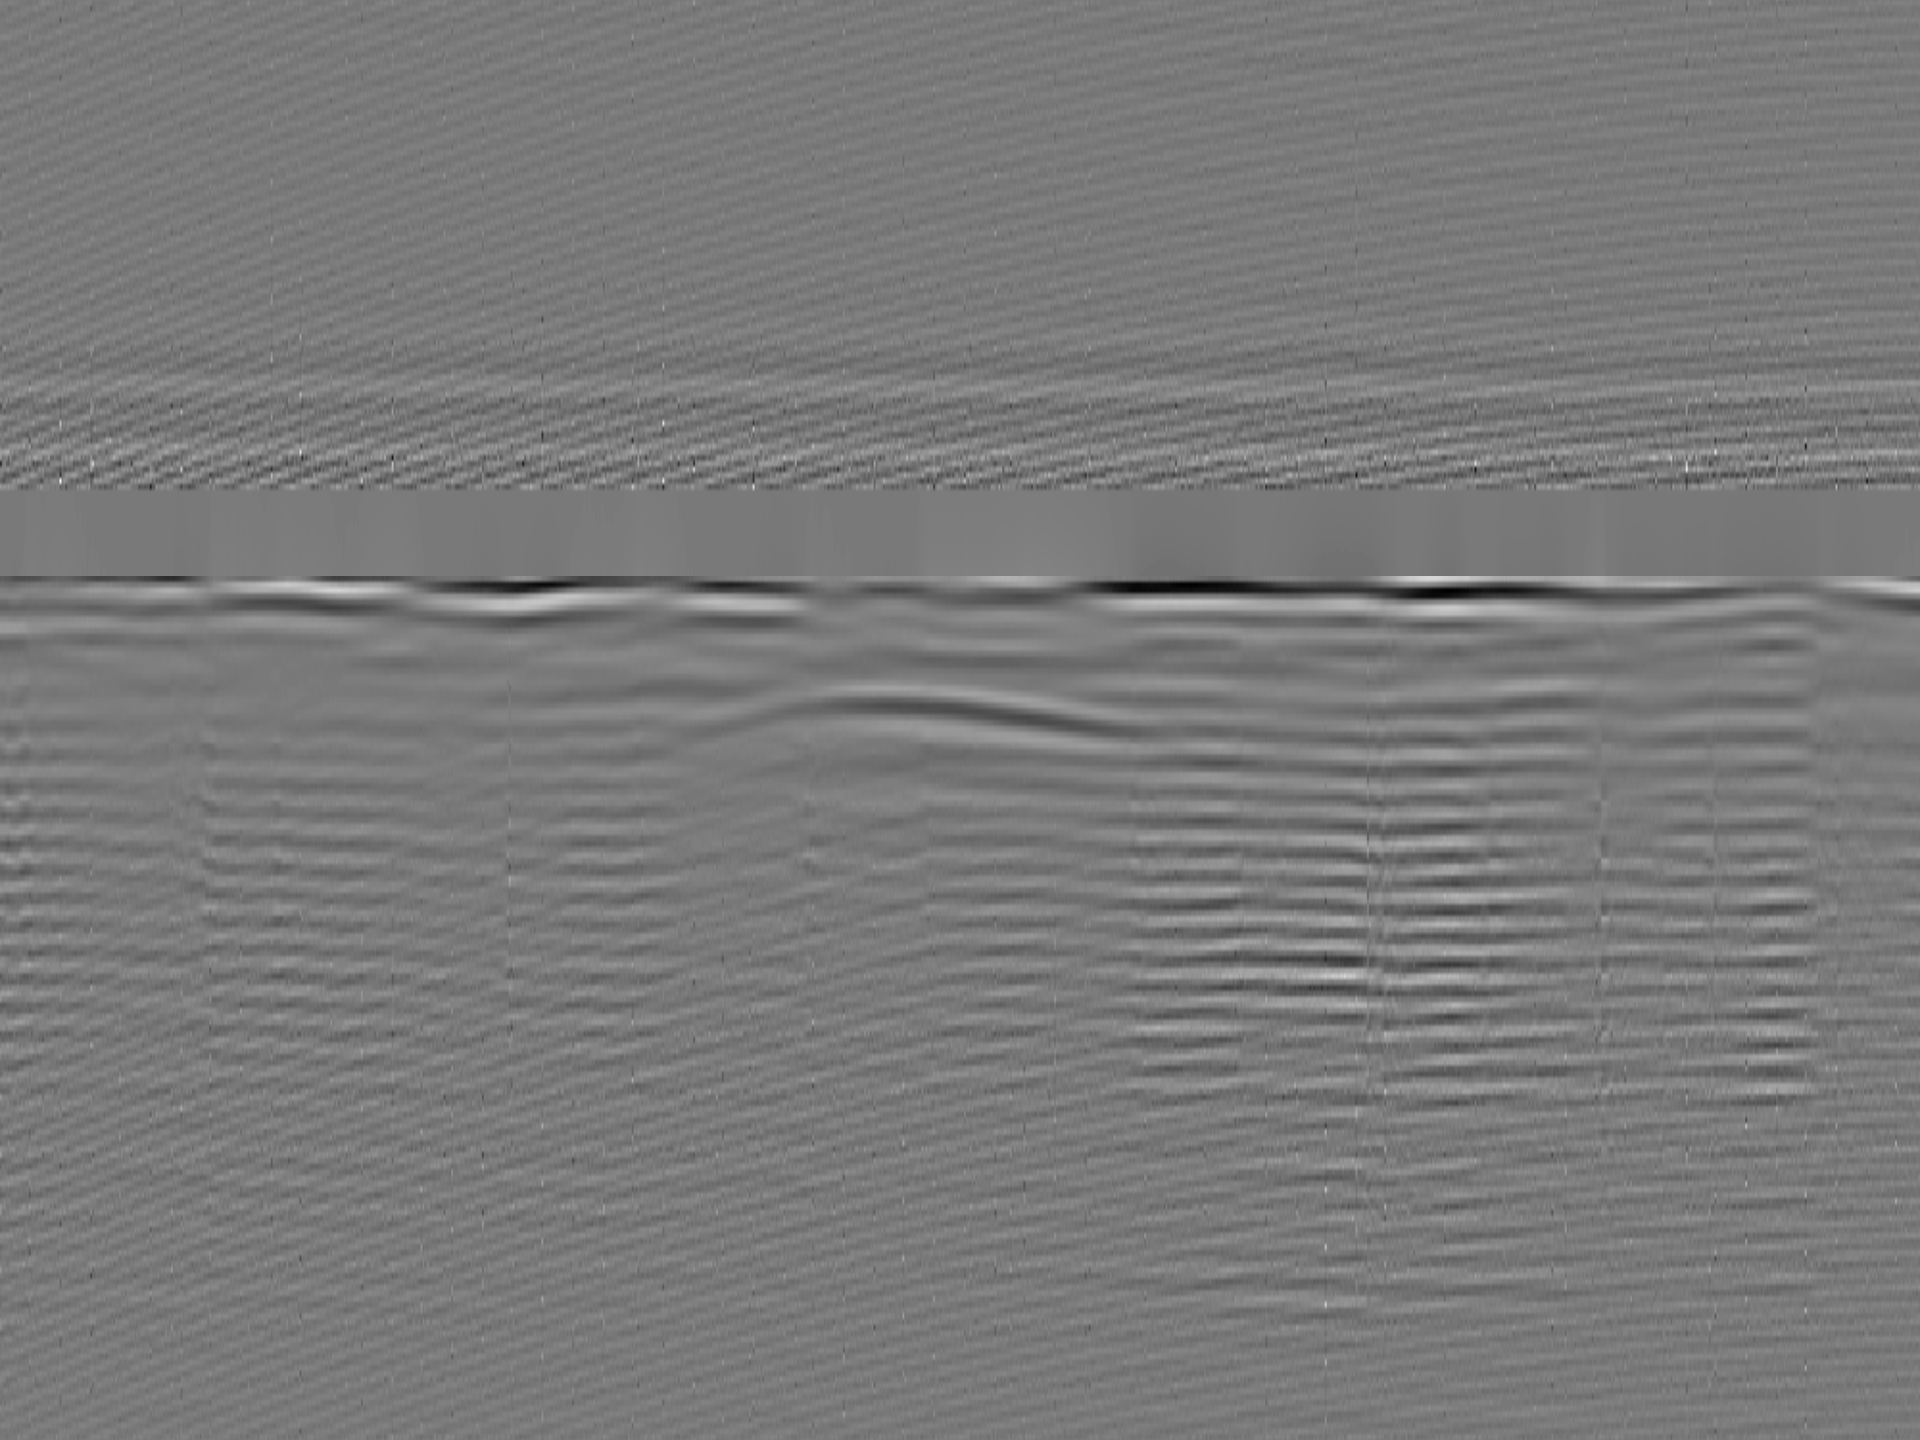Tunnel: (609, 679, 1196, 761)
